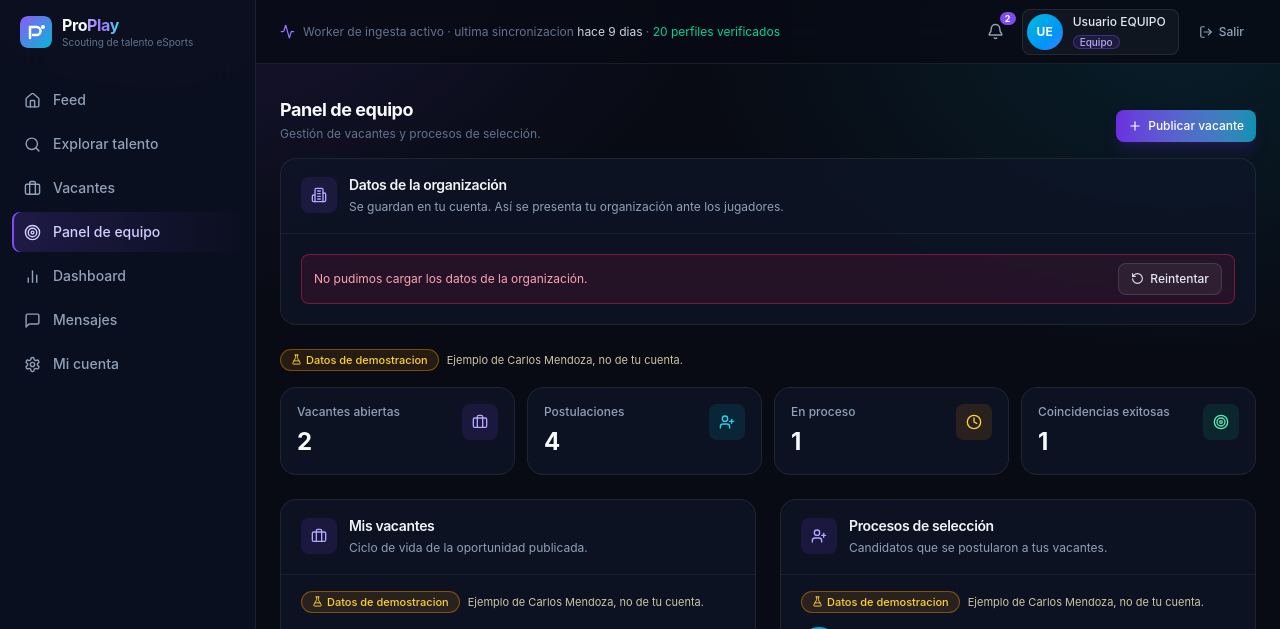
Scenario: Datos de la organización en el panel de equipo › ofrece reintentar si no puede cargar los datos
Expected: the text "No pudimos cargar los datos de la organización." is shown, [314, 270, 588, 286]
What coordinates should you click on to do the following:
click the button "Reintentar"
I would click on:
 (1170, 278)
Its box is [1118, 262, 1222, 294].
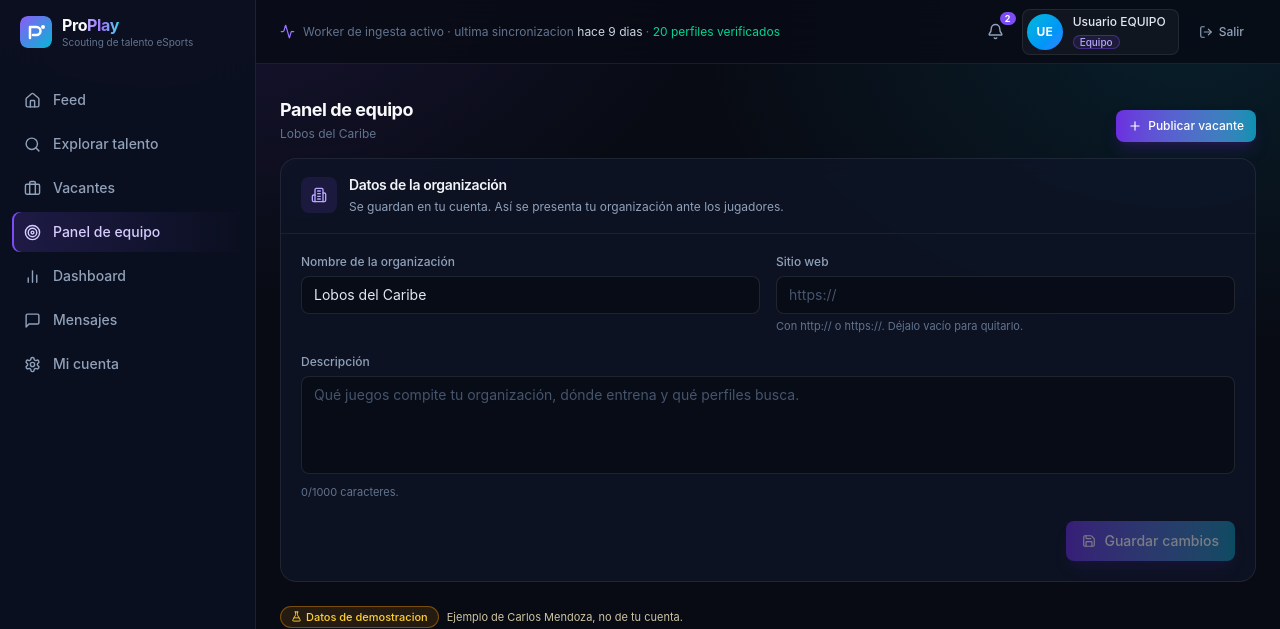
Expected: the field labelled "Nombre de la organización" holds "Lobos del Caribe", [301, 276, 760, 314]
